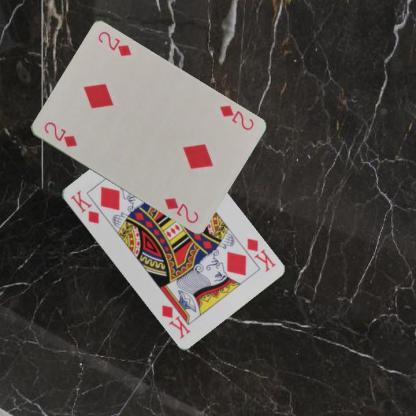2d: (217, 102, 256, 132), (41, 119, 79, 149)
Kd: (244, 235, 277, 273), (68, 188, 100, 226)
